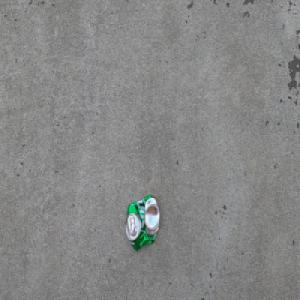SodaCan: (124, 194, 160, 252)
